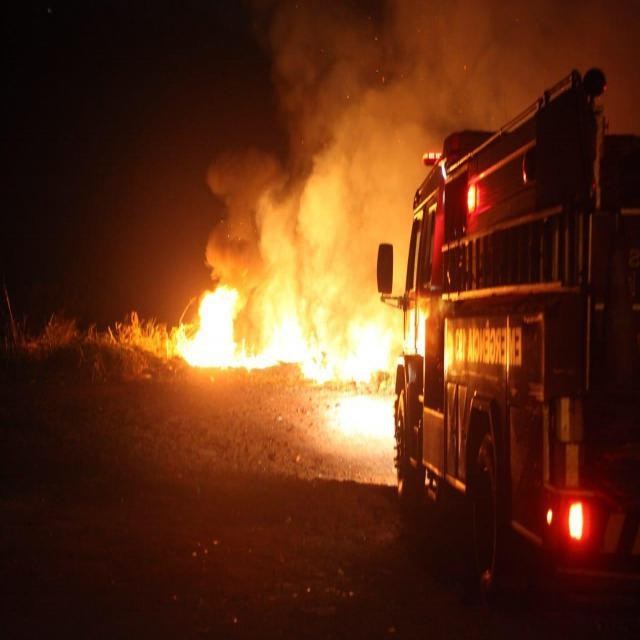Fire: (176, 284, 386, 384)
